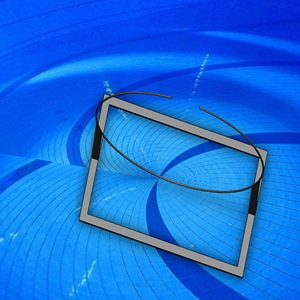circle: (77, 89, 269, 280)
